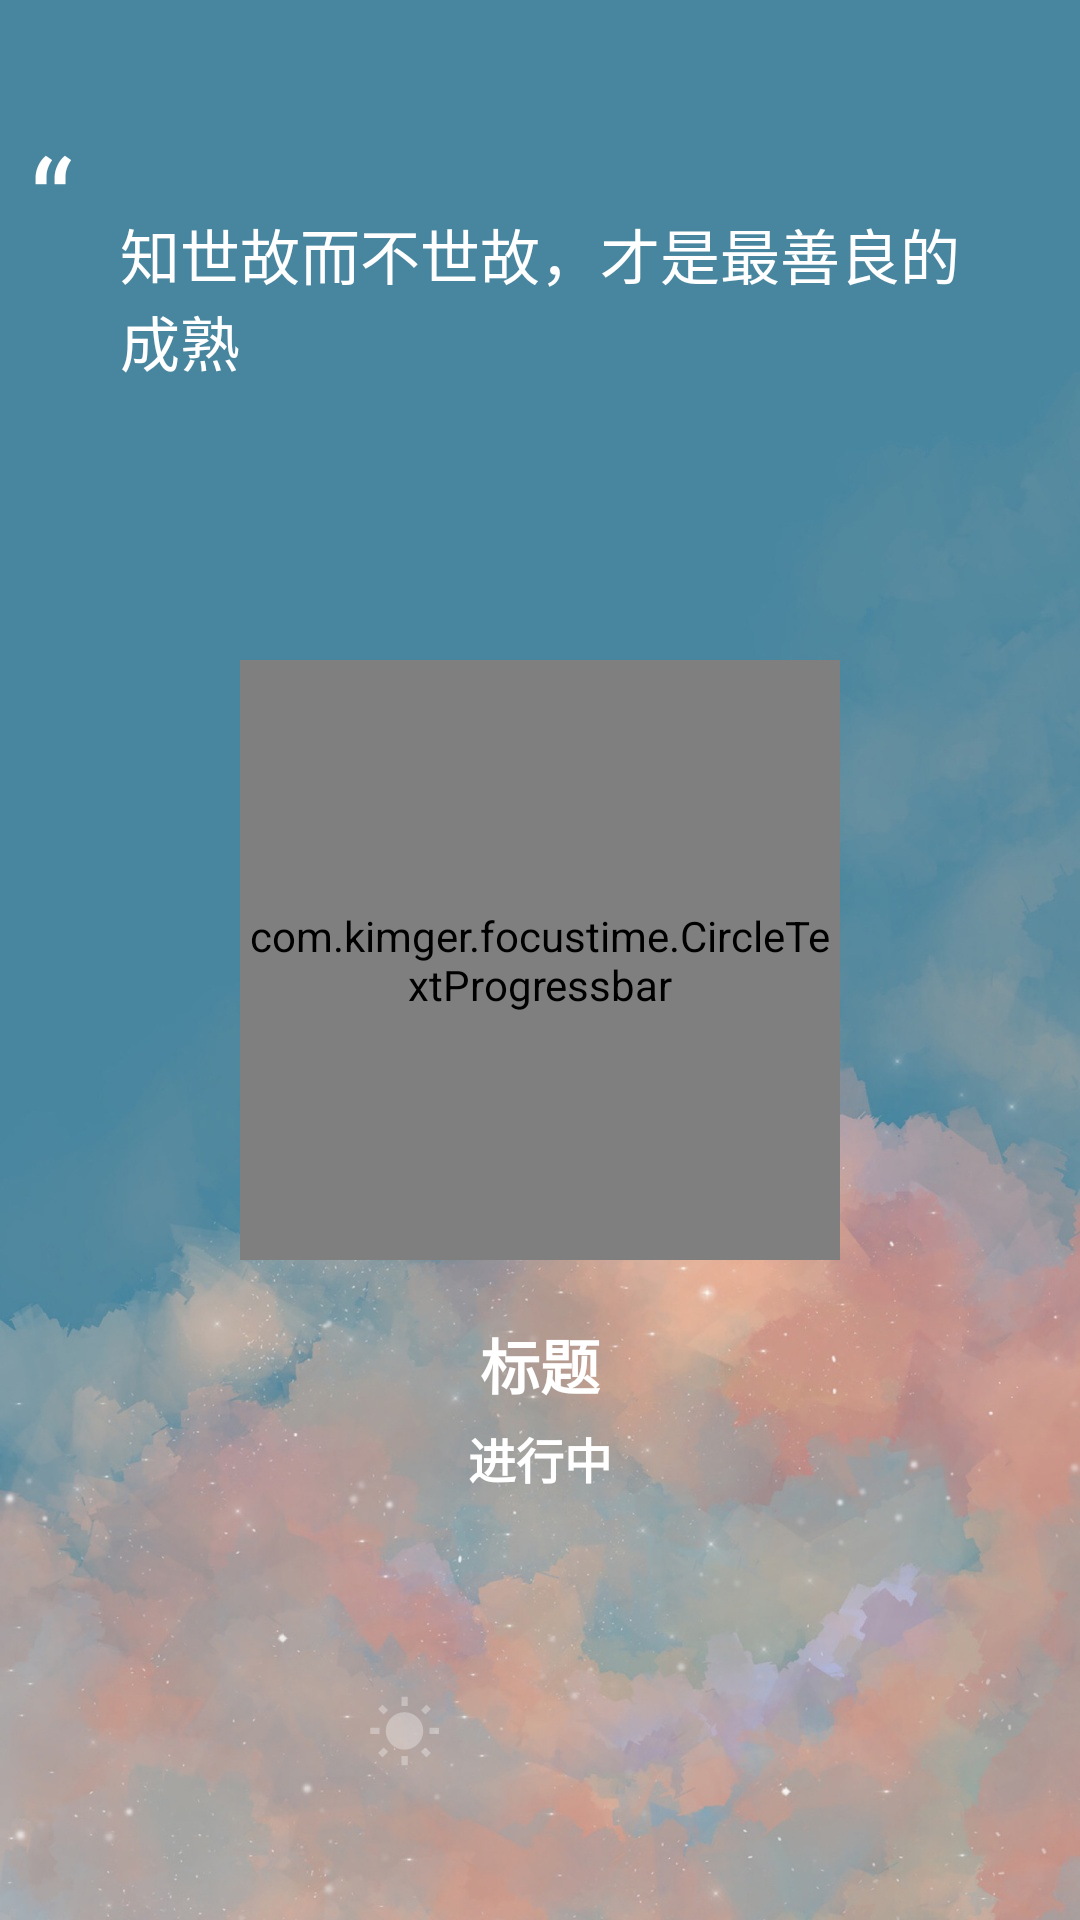

Named icons in this screenshot (1080x1920) and their bounding boxes, (x1, y1, x2, y2):
sunny: (371, 1697, 439, 1765)
